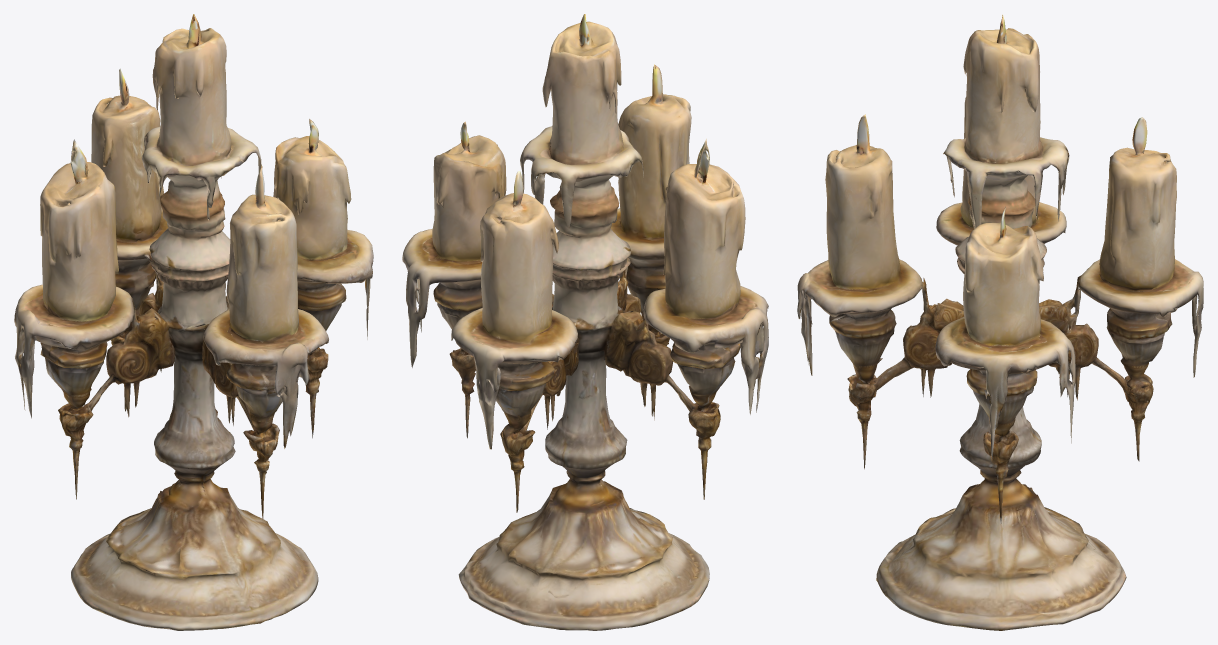
Rendered from EternalIllumination.glb.
The picture shows the model from 3 angles, left to right: view 1: azimuth 30°, elevation 25°; view 2: azimuth 150°, elevation 25°; view 3: azimuth 270°, elevation 25°; orthographic projection.
Size of the model in its own units: 1.29 by 1.98 by 1.3.
1 material, 1 textured.
